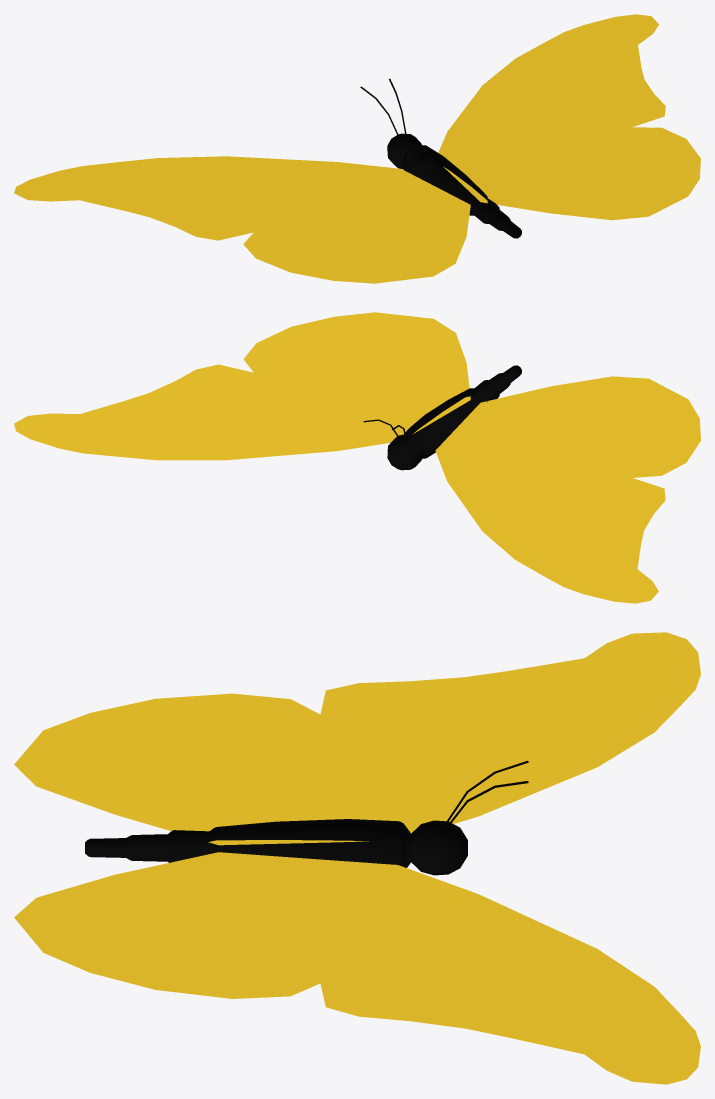
File: butterfly04.glb
The picture shows the model from 3 angles, top to bottom: view 1: azimuth 30°, elevation 25°; view 2: azimuth 150°, elevation 25°; view 3: azimuth 270°, elevation 25°; orthographic projection. The views are drawn at different scales.
Visible parts, largest first — view 1: Circle; view 2: Circle; view 3: Circle.
Boxes of the visible parts, x1=… form: Circle: x1=14, y1=14, x2=700, y2=283; Circle: x1=14, y1=312, x2=700, y2=603; Circle: x1=14, y1=632, x2=700, y2=1084.
Size of the model in its own units: 23.32 by 2.33 by 13.92.
